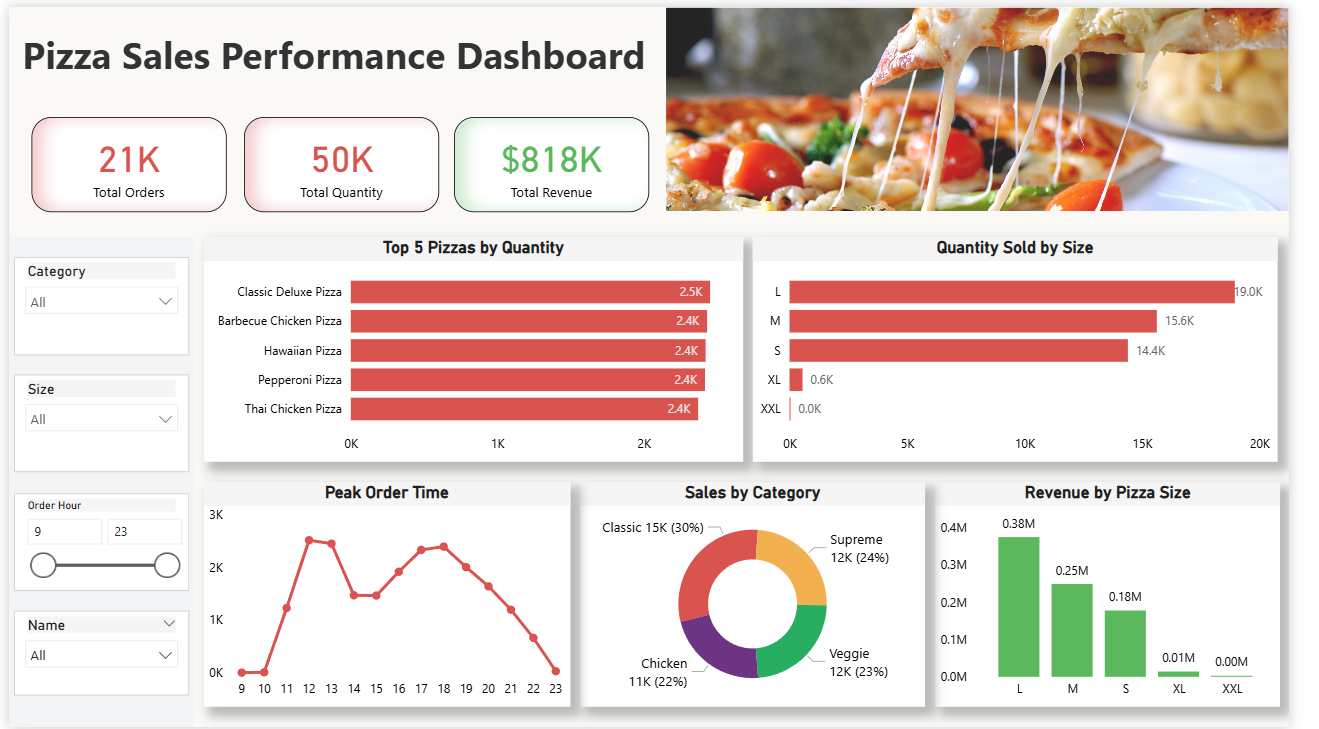

The dashboard page shown, as its layout file describes it:
{"tool":"powerbi","page":{"name":"Page 1","canvas":[1280,720],"ordinal":0},"visuals":[{"type":"shape","box":[0,230,185,490],"z":1000},{"type":"image","box":[656.2,0,623.8,205],"z":2000},{"type":"card","fields":{"Values":["measure.Total Orders"]},"box":[22.5,110,195,95],"z":3000},{"type":"card","fields":{"Values":["measure.Total Quantity"]},"box":[235,110,195,95],"z":4000},{"type":"card","fields":{"Values":["measure.Total Revenue"]},"box":[445,110,195,95],"z":5000},{"type":"barChart","title":"Top 5 Pizzas by Quantity","fields":{"Category":["pizzas types.name"],"Y":["measure.Total Quantity"]},"box":[195,230,539,225],"z":6000},{"type":"columnChart","title":"Revenue by Pizza Size","fields":{"Category":["pizzas.size"],"Y":["measure.Total Revenue"]},"box":[926,475,345,225],"z":7000},{"type":"donutChart","title":"Sales by Category","fields":{"Category":["pizzas types.category"],"Y":["measure.Total Quantity"]},"box":[571,475,345,225],"z":8000},{"type":"barChart","title":"Quantity Sold by Size","fields":{"Category":["pizzas.size"],"Y":["measure.Total Quantity"]},"box":[744,230,525,225],"z":9000},{"type":"slicer","fields":{"Values":["pizzas types.category"]},"box":[5,250,175,98],"z":10000},{"type":"slicer","fields":{"Values":["pizzas.size"]},"box":[5,368,175,97.5],"z":11000},{"type":"slicer","fields":{"Values":["orders.Order Hour"]},"box":[5,486,175,97.5],"z":12000},{"type":"slicer","fields":{"Values":["pizzas types.name"]},"box":[5,604,175,85],"z":13000},{"type":"lineChart","title":"Peak Order Time","fields":{"Category":["orders.Order Hour"],"Y":["measure.Total Orders"]},"box":[195,475,366,225],"z":14000},{"type":"textbox","box":[5,17.5,640,73.8],"z":15000},{"type":"shape","box":[656.2,0,623.8,205],"z":15500}]}

Visuals, with their boxes in screenshot pixels (x1, y1, x2, y2), scaled from the page's 1280x720 canvas onto the 1319x729 screenshot:
shape: region(0, 233, 191, 728)
image: region(676, 0, 1318, 208)
card - measure.Total Orders: region(23, 111, 224, 208)
card - measure.Total Quantity: region(242, 111, 443, 208)
card - measure.Total Revenue: region(459, 111, 660, 208)
"Top 5 Pizzas by Quantity" barChart: region(201, 233, 756, 461)
"Revenue by Pizza Size" columnChart: region(954, 481, 1310, 709)
"Sales by Category" donutChart: region(588, 481, 944, 709)
"Quantity Sold by Size" barChart: region(767, 233, 1308, 461)
slicer - pizzas types.category: region(5, 253, 185, 352)
slicer - pizzas.size: region(5, 373, 185, 471)
slicer - orders.Order Hour: region(5, 492, 185, 591)
slicer - pizzas types.name: region(5, 612, 185, 698)
"Peak Order Time" lineChart: region(201, 481, 578, 709)
textbox: region(5, 18, 665, 92)
shape: region(676, 0, 1318, 208)
